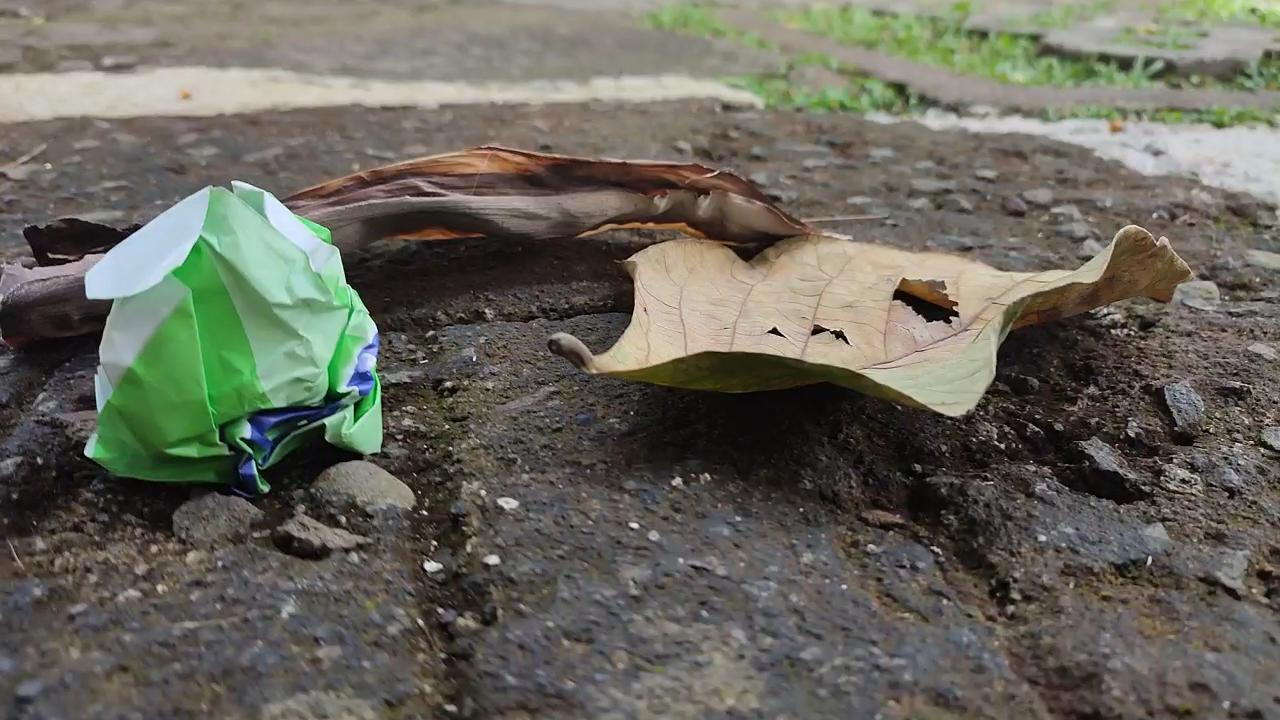Paper: (56, 169, 380, 489)
